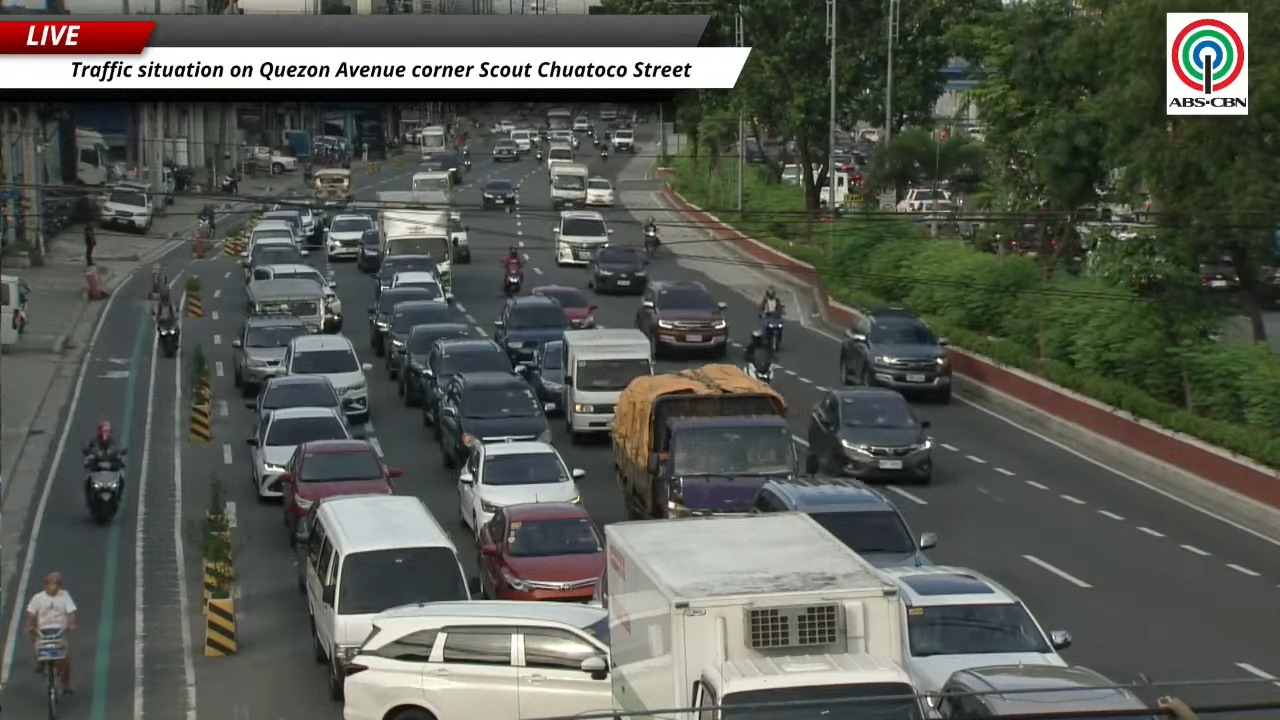bus: (547, 108, 572, 130)
car: (343, 600, 611, 719), (880, 566, 1071, 692), (752, 476, 935, 566), (477, 500, 604, 601), (927, 665, 1155, 719), (804, 387, 932, 483), (280, 440, 402, 538), (457, 442, 584, 533), (436, 370, 551, 467), (839, 308, 951, 402), (247, 407, 351, 497), (420, 338, 509, 438), (282, 335, 371, 424), (635, 281, 728, 356), (397, 322, 473, 406), (232, 316, 309, 396), (251, 264, 342, 331), (383, 300, 455, 379), (494, 295, 570, 367), (369, 287, 435, 356), (246, 375, 340, 418), (554, 210, 611, 265), (588, 245, 649, 293), (522, 341, 563, 412), (531, 285, 596, 328), (375, 254, 437, 297), (244, 241, 304, 283), (99, 186, 153, 232), (324, 213, 375, 260), (264, 204, 322, 244), (391, 270, 450, 302), (260, 206, 308, 243), (247, 219, 301, 250), (895, 187, 950, 212), (424, 151, 463, 184), (449, 213, 471, 263), (356, 229, 381, 273), (483, 178, 518, 207), (585, 177, 614, 206), (610, 128, 635, 153), (510, 129, 534, 154), (493, 139, 519, 160), (549, 130, 578, 148), (418, 158, 448, 172), (491, 120, 515, 135), (598, 104, 617, 122), (573, 116, 590, 131)
motorcycle: (85, 449, 127, 524), (761, 312, 783, 351), (157, 323, 179, 358), (743, 362, 773, 383), (503, 269, 522, 297), (643, 228, 659, 255), (196, 215, 212, 237), (220, 175, 237, 193), (599, 146, 609, 161), (463, 157, 471, 170), (592, 132, 599, 145), (535, 148, 542, 161), (504, 203, 512, 213)
truck: (604, 513, 923, 719), (610, 364, 796, 519), (377, 191, 452, 291), (75, 128, 110, 186), (550, 162, 589, 209), (418, 125, 450, 157), (282, 129, 312, 162)
